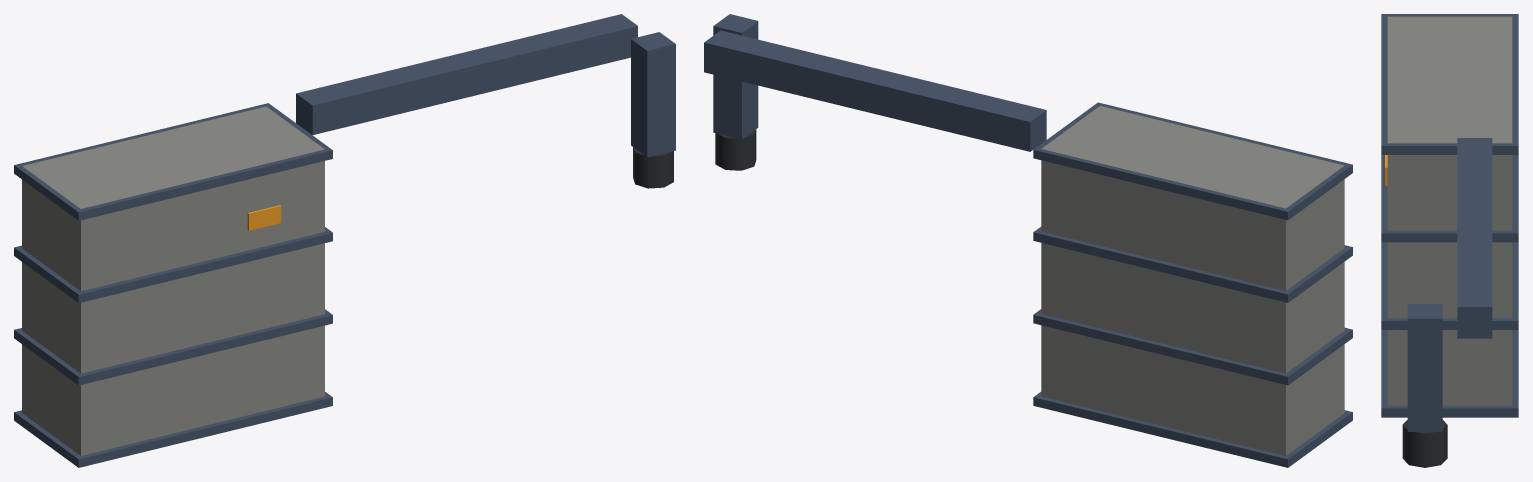
The model's file is ak1_charger.obj.
3 views of the same model, side by side, from view 1: azimuth 30°, elevation 25°; view 2: azimuth 150°, elevation 25°; view 3: azimuth 270°, elevation 25° (orthographic). The views are drawn at different scales.
Parts seen in each view (by area): view 1: ak1_charger; view 2: ak1_charger; view 3: ak1_charger.
Part boxes in pixels (x1,y1,x2,y2): ak1_charger: (14,14,675,467); ak1_charger: (704,14,1352,467); ak1_charger: (1381,14,1518,467).
Size of the model in its own units: 3.02 by 1.27 by 0.55.
